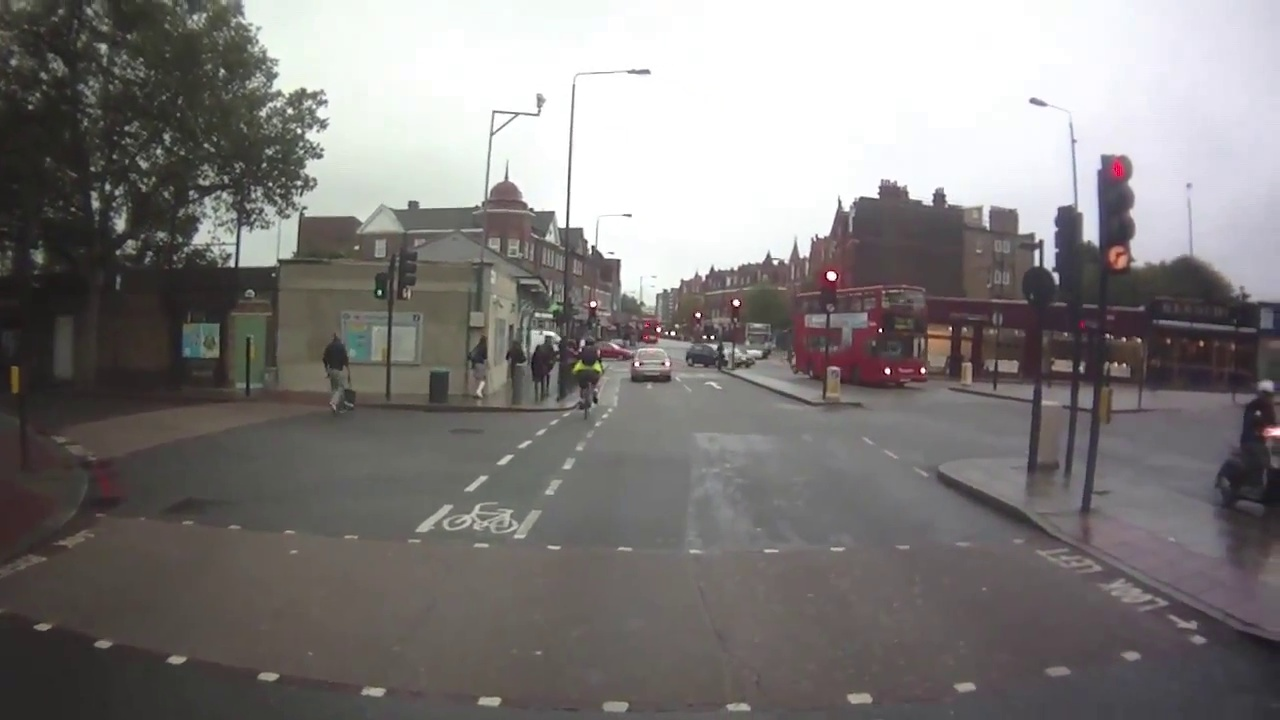cyclist_back: (575, 335, 607, 423)
